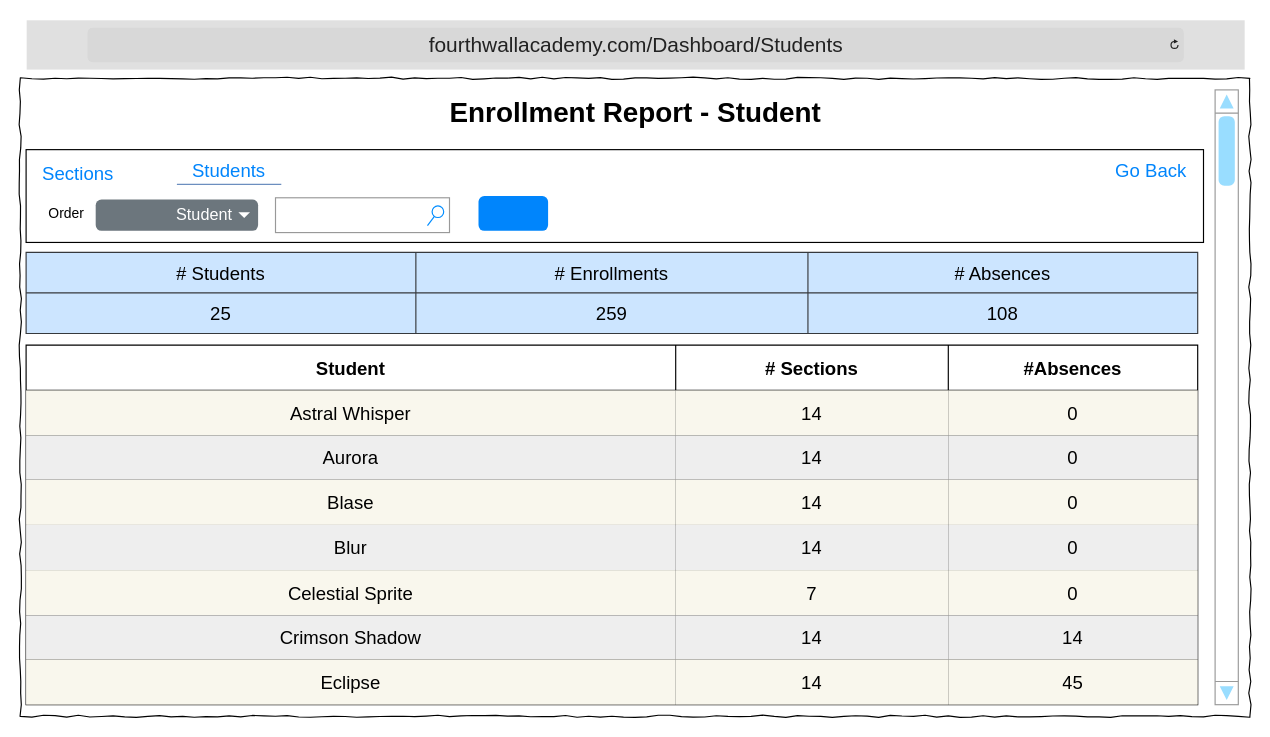
Image size: 1270x737. Some labels were removed from this diagram. The shapes that lost their labels are listed below. From the top down, each one's box as (x1, y1, x2, y2) in pixels, then its label:
(274, 197, 449, 233): Search
(478, 195, 548, 230): Apply
